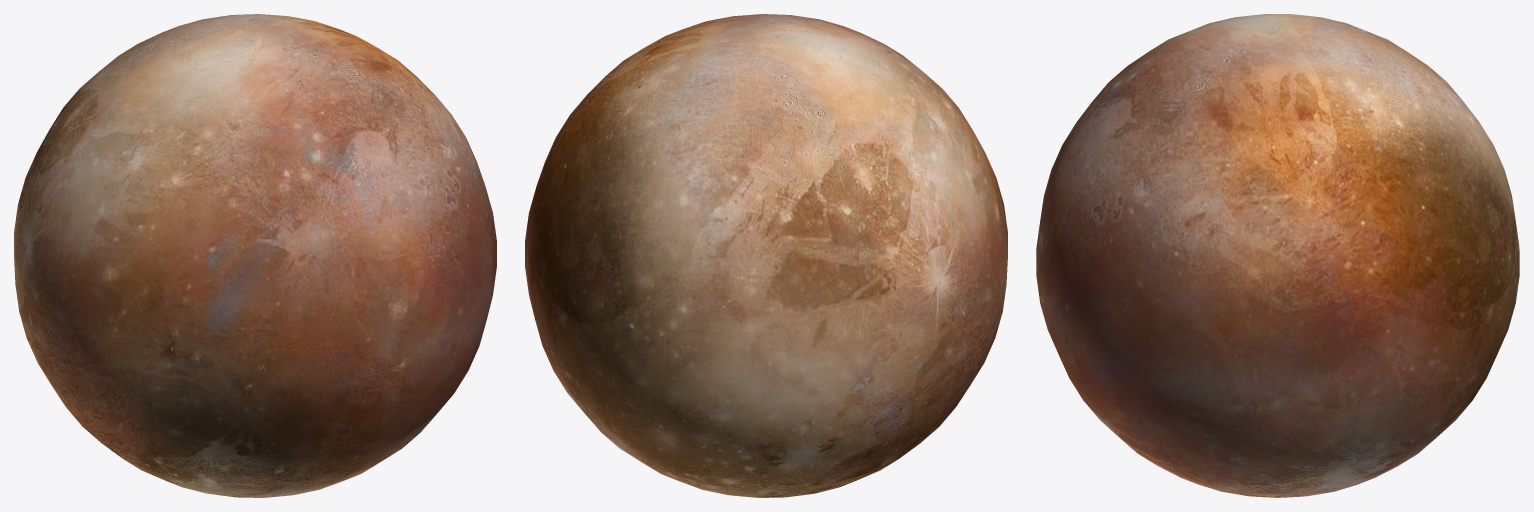
File: pluto.obj
The picture shows the model from 3 angles, left to right: view 1: azimuth 30°, elevation 25°; view 2: azimuth 150°, elevation 25°; view 3: azimuth 270°, elevation 25°; orthographic projection.
Visible parts, largest first — view 1: pluto; view 2: pluto; view 3: pluto.
Part boxes in pixels (x1,y1,x2,y2): pluto: (14,14,496,497); pluto: (525,14,1007,497); pluto: (1036,14,1519,497).
Bounding box in the file's own units: 38.71 × 38.94 × 38.78.
1 material, 1 textured.
